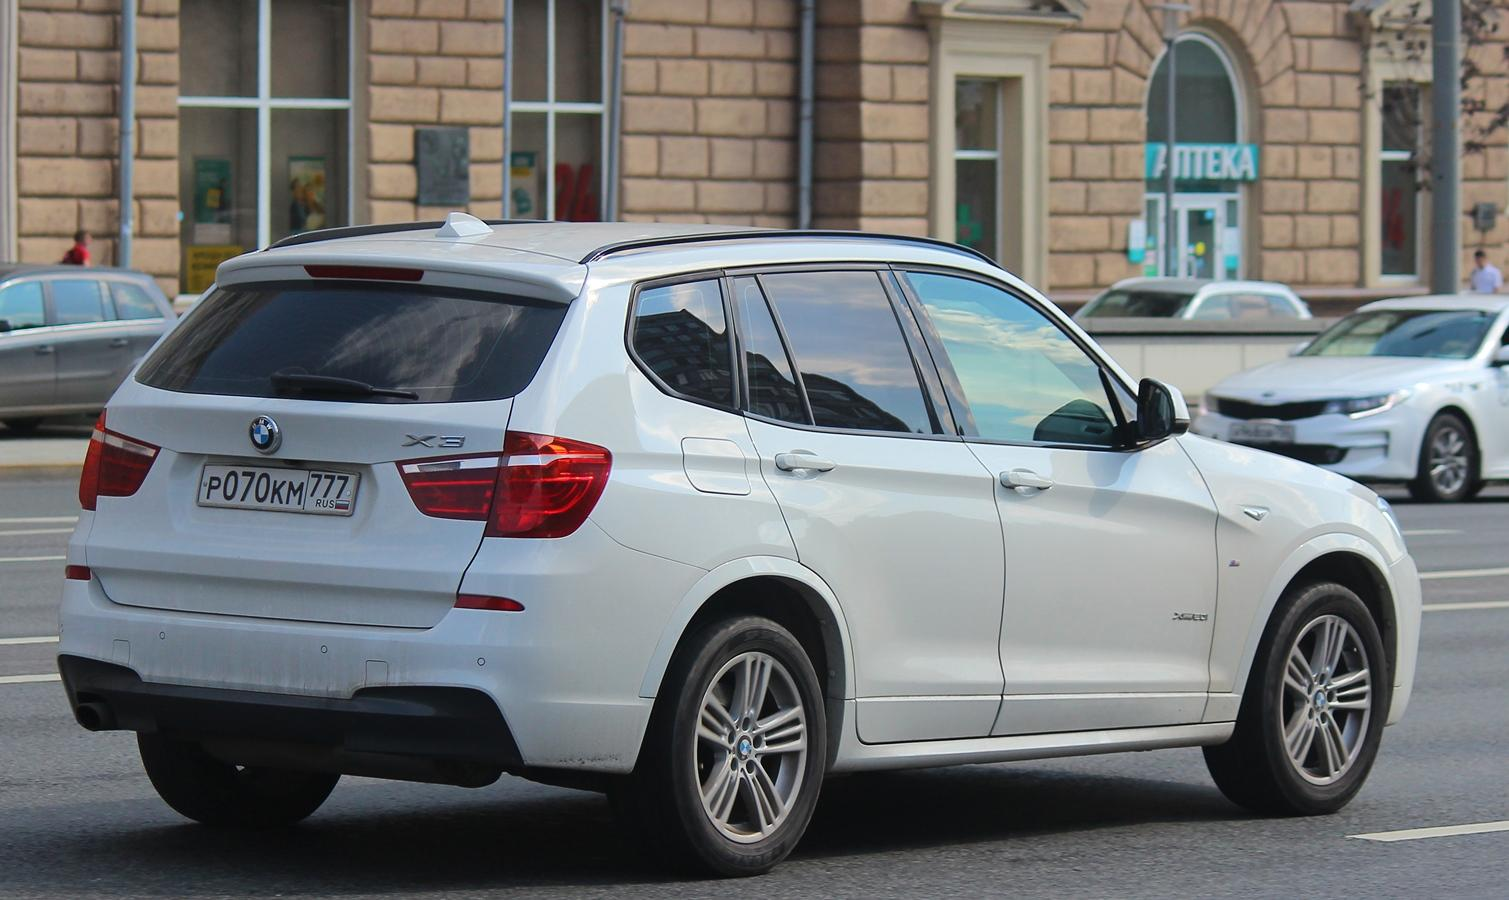license-plateSW: (199, 468, 357, 512)
